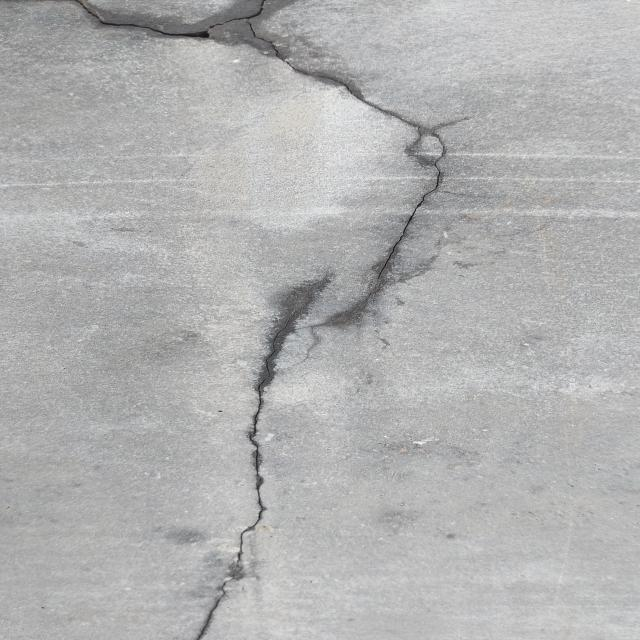Crack: (68, 2, 469, 640)
